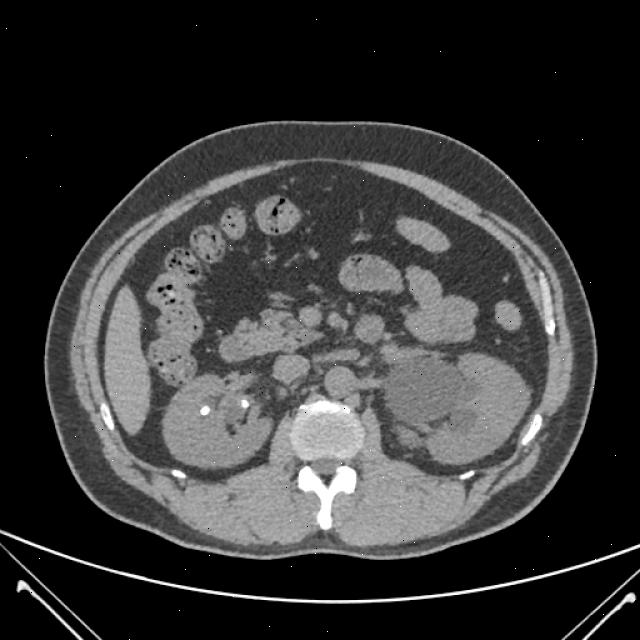kidneystone: (200, 405, 211, 416), (240, 399, 250, 408)
